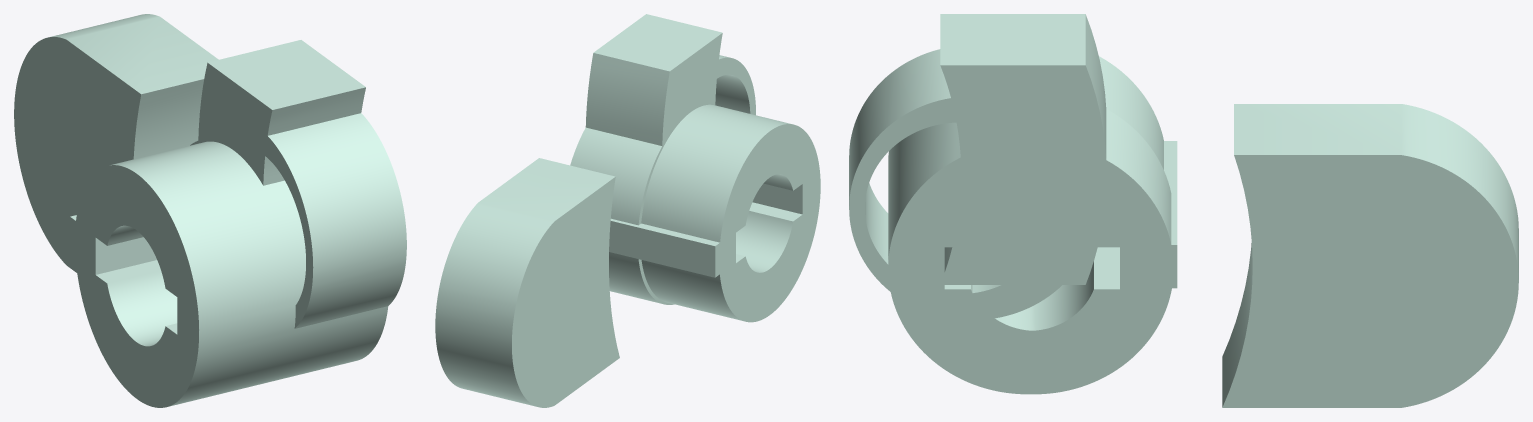
3 renders of one model, left to right at view 1: azimuth 30°, elevation 25°; view 2: azimuth 150°, elevation 25°; view 3: azimuth 270°, elevation 25°, orthographic. The views are drawn at different scales.
Visible parts, largest first — view 1: Renderer Node; view 2: Renderer Node; view 3: Renderer Node.
Boxes of the visible parts, box(x1,y1,x2,y2) form: Renderer Node: box(14, 14, 406, 407); Renderer Node: box(435, 14, 820, 407); Renderer Node: box(849, 14, 1518, 407).
Bounding box in the file's own units: 0.5234 × 0.8047 × 1.42.
